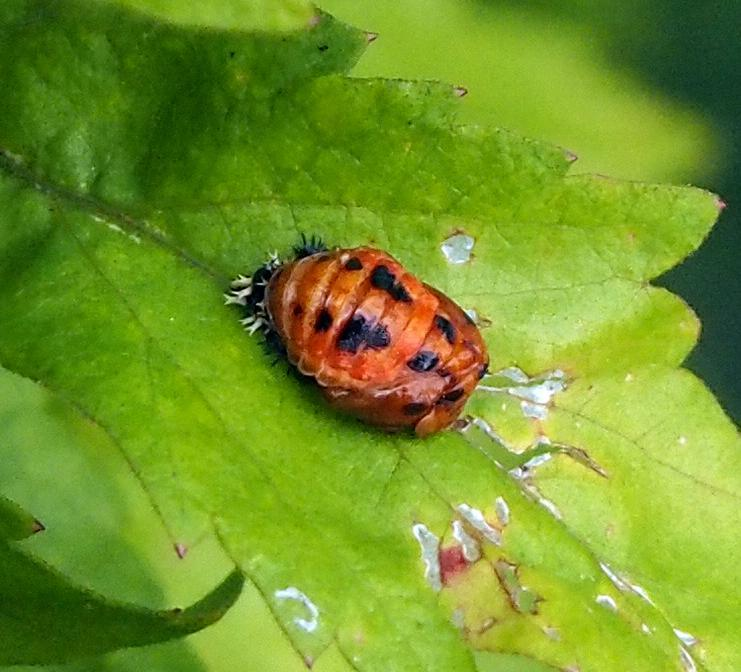ladybug: (221, 229, 493, 441)
